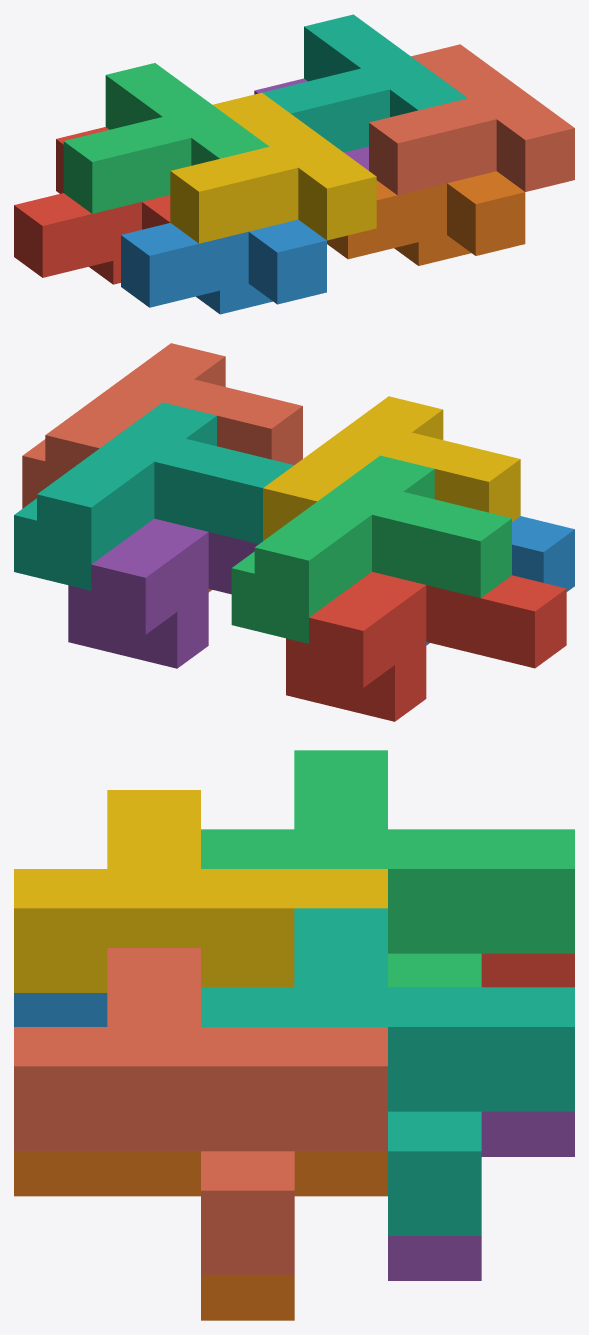
File: tiling.obj
3 views of the same model, one above another, from view 1: azimuth 30°, elevation 25°; view 2: azimuth 150°, elevation 25°; view 3: azimuth 270°, elevation 25° (orthographic). The views are drawn at different scales.
Parts seen in each view (by area): view 1: copy_1_domain_4, copy_1_domain_8, copy_1_domain_3, copy_1_domain_2, copy_1_domain_7, copy_1_domain_6, copy_1_domain_1, copy_1_domain_5; view 2: copy_1_domain_3, copy_1_domain_7, copy_1_domain_1, copy_1_domain_5, copy_1_domain_8, copy_1_domain_4, copy_1_domain_2; view 3: copy_1_domain_8, copy_1_domain_7, copy_1_domain_3, copy_1_domain_4, copy_1_domain_6, copy_1_domain_5, copy_1_domain_1, copy_1_domain_2.
Boxes of the visible parts, <box> form: copy_1_domain_4: <box>170,92,376,243</box>; copy_1_domain_8: <box>369,44,574,195</box>; copy_1_domain_3: <box>63,63,269,213</box>; copy_1_domain_2: <box>121,219,326,314</box>; copy_1_domain_7: <box>262,14,467,152</box>; copy_1_domain_6: <box>327,171,525,265</box>; copy_1_domain_1: <box>14,127,170,284</box>; copy_1_domain_5: <box>254,78,368,170</box>; copy_1_domain_3: <box>231,455,511,643</box>; copy_1_domain_7: <box>14,402,293,590</box>; copy_1_domain_1: <box>286,572,566,721</box>; copy_1_domain_5: <box>68,518,258,668</box>; copy_1_domain_8: <box>22,343,302,508</box>; copy_1_domain_4: <box>263,396,520,540</box>; copy_1_domain_2: <box>426,516,574,645</box>; copy_1_domain_8: <box>14,948,387,1275</box>; copy_1_domain_7: <box>201,908,574,1235</box>; copy_1_domain_3: <box>201,750,574,987</box>; copy_1_domain_4: <box>14,790,387,992</box>; copy_1_domain_6: <box>14,1151,387,1320</box>; copy_1_domain_5: <box>388,1111,574,1280</box>; copy_1_domain_1: <box>481,953,574,987</box>; copy_1_domain_2: <box>14,993,107,1026</box>.
Bounding box in the file's own units: 10 × 3 × 6.
